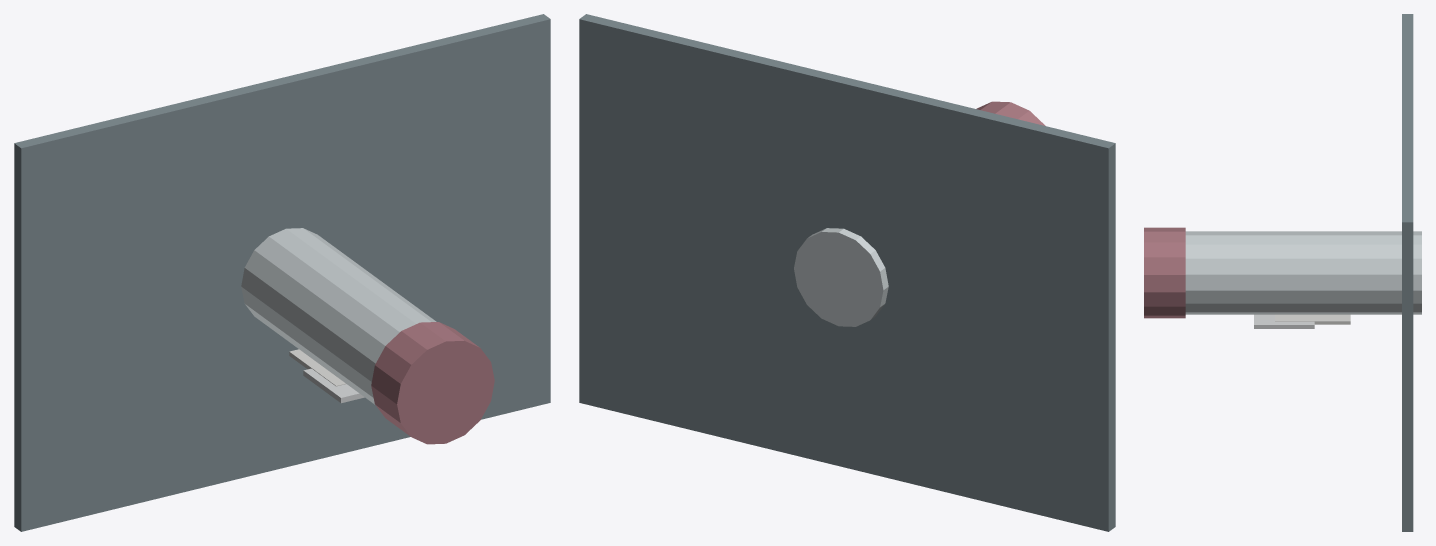
The model's file is collection-tube-medium.glb.
The picture shows the model from 3 angles, left to right: view 1: azimuth 30°, elevation 25°; view 2: azimuth 150°, elevation 25°; view 3: azimuth 270°, elevation 25°; orthographic projection. The views are drawn at different scales.
Parts seen in each view (by area): view 1: presentation_base_detail, collection_tube, tube_cap, label_band_detail; view 2: presentation_base_detail, collection_tube, tube_cap; view 3: collection_tube, presentation_base_detail, tube_cap, tube_label, label_band_detail.
Boxes of the visible parts, <box> form: presentation_base_detail: <box>14,14,550,531</box>; collection_tube: <box>241,228,436,404</box>; tube_cap: <box>371,322,494,444</box>; label_band_detail: <box>303,368,364,403</box>; presentation_base_detail: <box>579,14,1115,531</box>; collection_tube: <box>794,228,888,326</box>; tube_cap: <box>976,101,1045,125</box>; collection_tube: <box>1185,231,1421,314</box>; presentation_base_detail: <box>1402,14,1413,531</box>; tube_cap: <box>1144,227,1185,318</box>; tube_label: <box>1275,314,1350,324</box>; label_band_detail: <box>1254,314,1314,328</box>.
Bounding box in the file's own units: 2.6 × 1.8 × 1.46.
